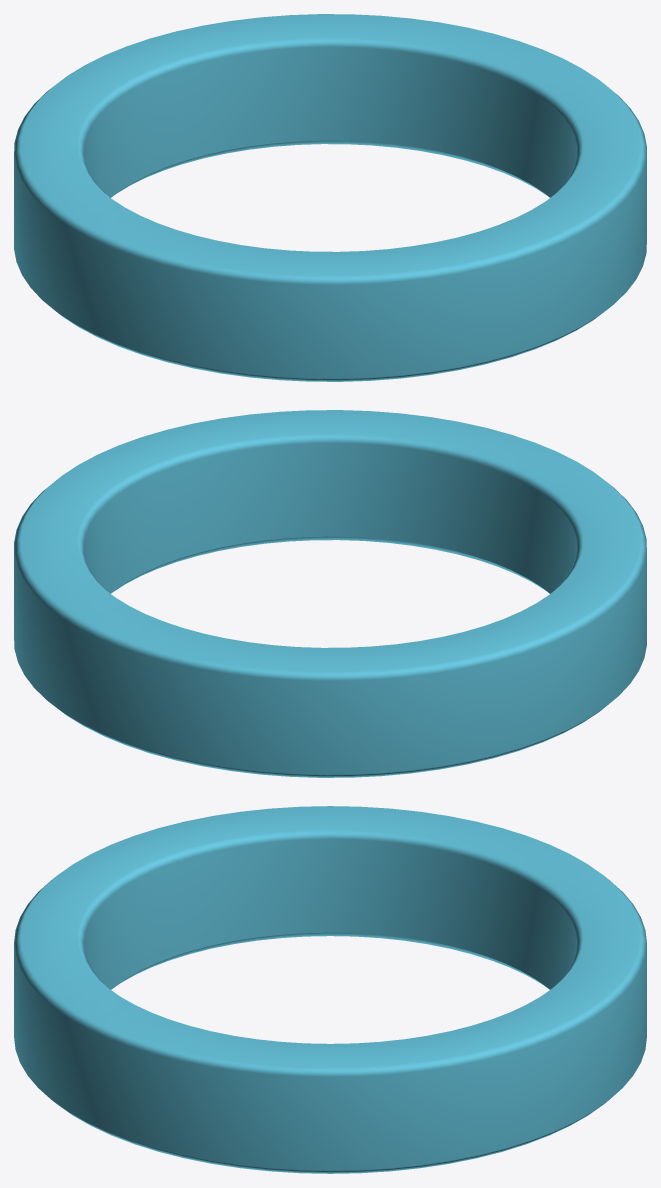
3 renders of one model, top to bottom at view 1: azimuth 30°, elevation 25°; view 2: azimuth 150°, elevation 25°; view 3: azimuth 270°, elevation 25°, orthographic.
Visible parts, largest first — view 1: seal_body; view 2: seal_body; view 3: seal_body.
Boxes of the visible parts, x1=… form: seal_body: x1=14, y1=14, x2=646, y2=381; seal_body: x1=14, y1=410, x2=646, y2=777; seal_body: x1=14, y1=806, x2=646, y2=1173.
Bounding box in the file's own units: 0.0857 × 0.0159 × 0.0857.
